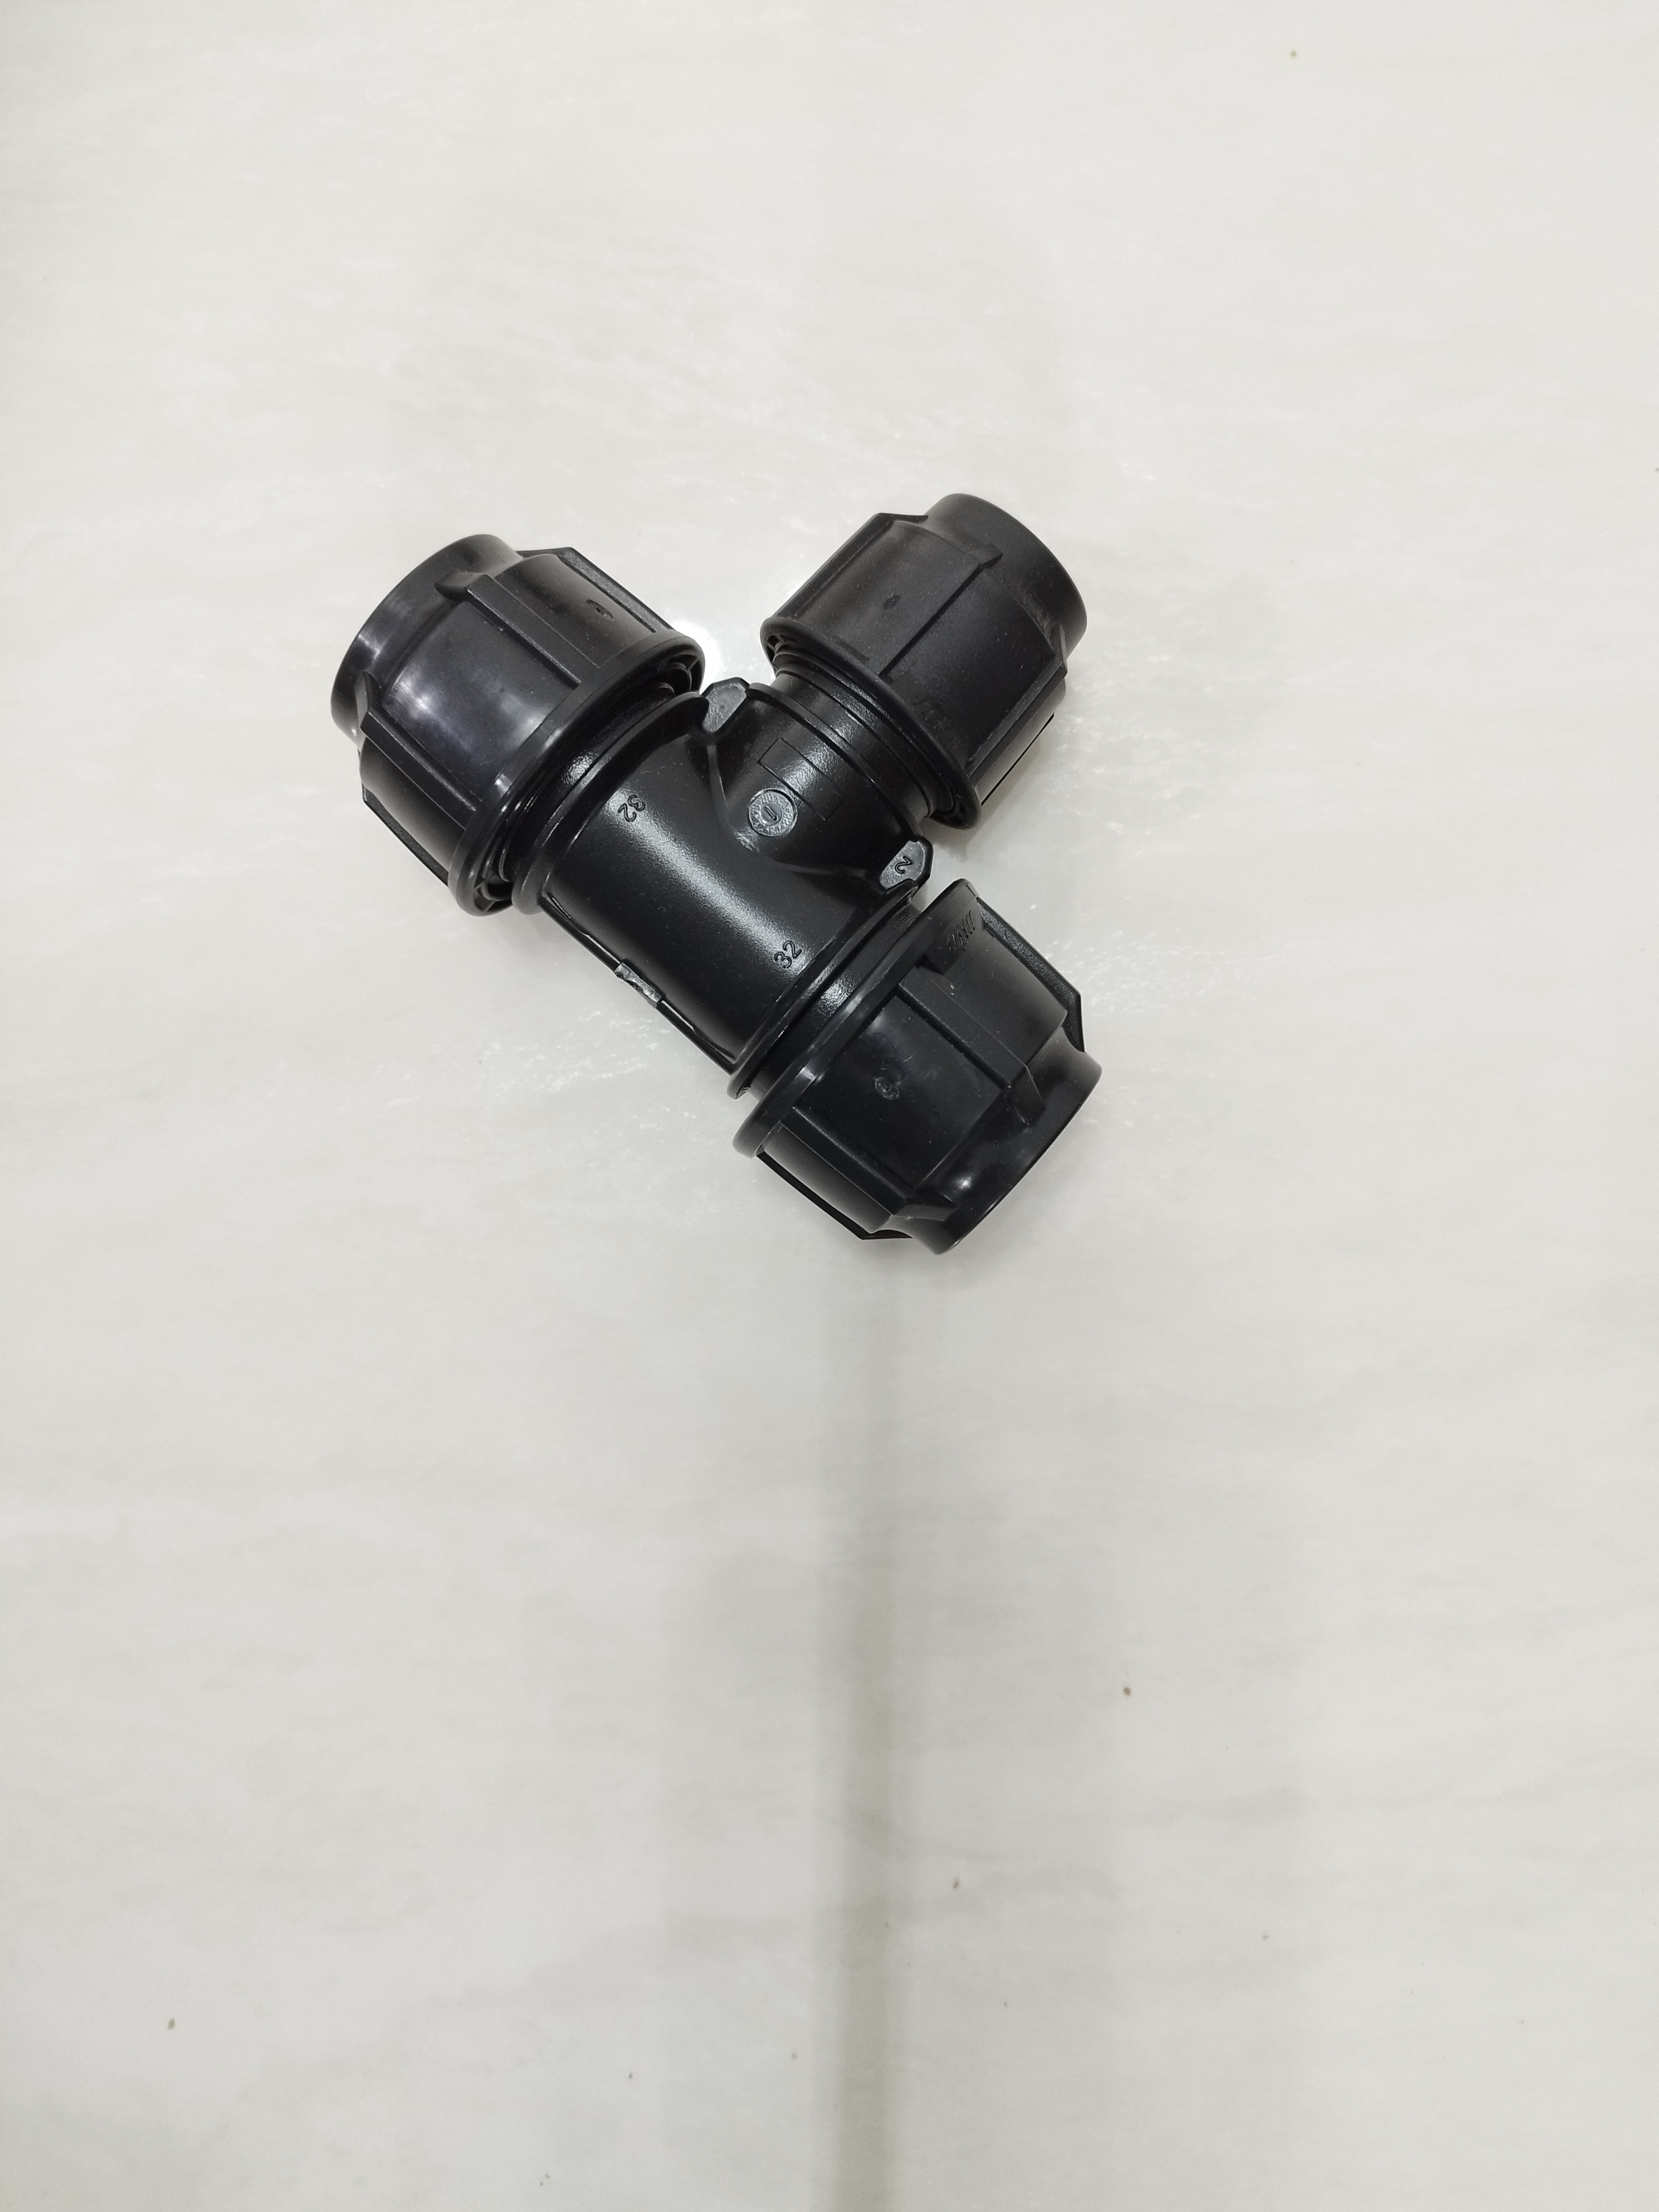plastic_tee_connector: (310, 448, 1188, 1320)
